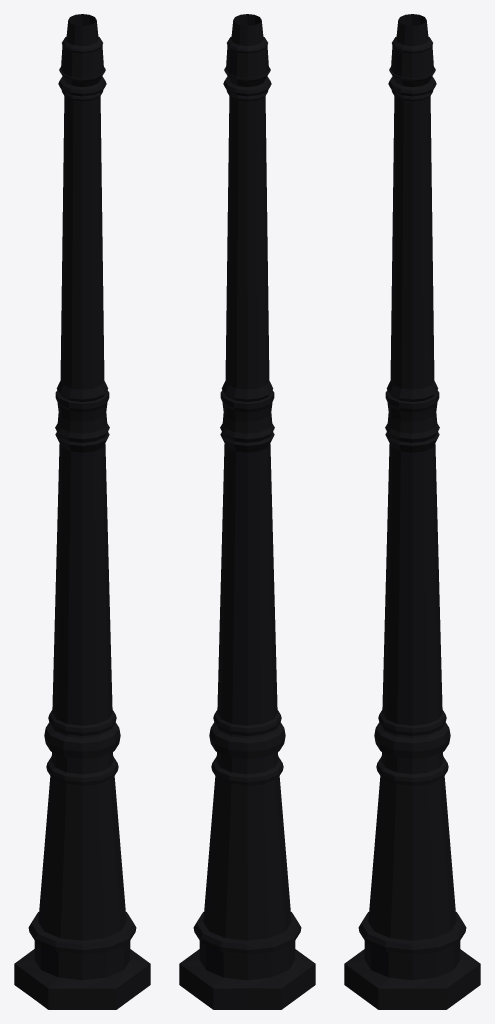
File: lamp_post.obj
3 views of the same model, side by side, from view 1: azimuth 90°, elevation 25°; view 2: azimuth 150°, elevation 25°; view 3: azimuth 270°, elevation 25° (orthographic).
Size of the model in its own units: 1.73 by 15.65 by 2.
1 material, 1 textured.
